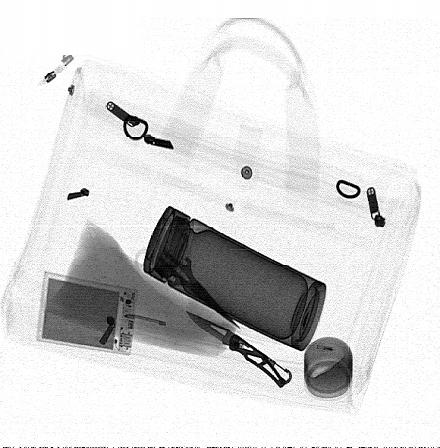Knife: (187, 309, 294, 389)
Powerbank: (37, 271, 139, 357)
Scissors: (133, 229, 243, 330)
